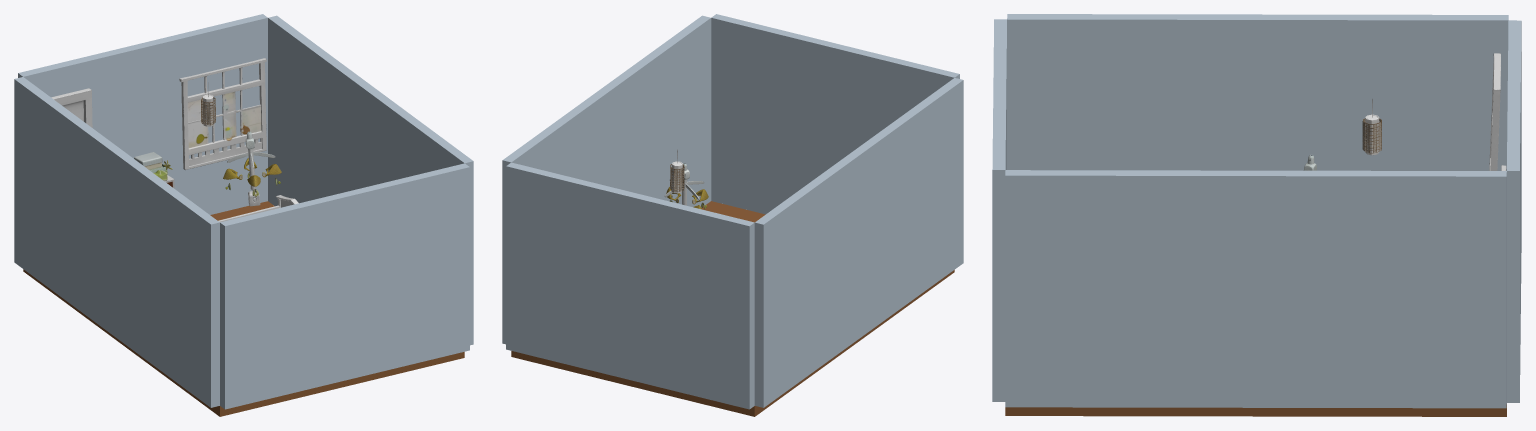
The model's file is stage3.glb.
The picture shows the model from 3 angles, left to right: view 1: azimuth 30°, elevation 25°; view 2: azimuth 150°, elevation 25°; view 3: azimuth 270°, elevation 25°; orthographic projection. The views are drawn at different scales.
Parts seen in each view (by area): view 1: Wall_01, geometry_0.007, Floor, geometry_0.009, geometry_0.010, geometry_0.003, geometry_0.011; view 2: Wall_01, Floor, geometry_0.009, geometry_0.003; view 3: Wall_01, Floor, geometry_0.010, geometry_0.003.
Part boxes in pixels (bbox=[...]): Wall_01: bbox=[14, 14, 473, 409]; geometry_0.007: bbox=[179, 58, 266, 169]; Floor: bbox=[23, 201, 464, 416]; geometry_0.009: bbox=[223, 131, 281, 206]; geometry_0.010: bbox=[51, 88, 92, 127]; geometry_0.003: bbox=[201, 82, 215, 126]; geometry_0.011: bbox=[134, 152, 167, 173]; Wall_01: bbox=[502, 14, 963, 409]; Floor: bbox=[511, 201, 954, 416]; geometry_0.009: bbox=[664, 163, 708, 209]; geometry_0.003: bbox=[670, 149, 684, 193]; Wall_01: bbox=[992, 14, 1521, 408]; Floor: bbox=[1005, 404, 1506, 416]; geometry_0.010: bbox=[1489, 53, 1500, 170]; geometry_0.003: bbox=[1362, 99, 1381, 155].
Size of the model in its own units: 7.4 by 5.27 by 10.17.
Materials: 14 (12 with a texture image).
